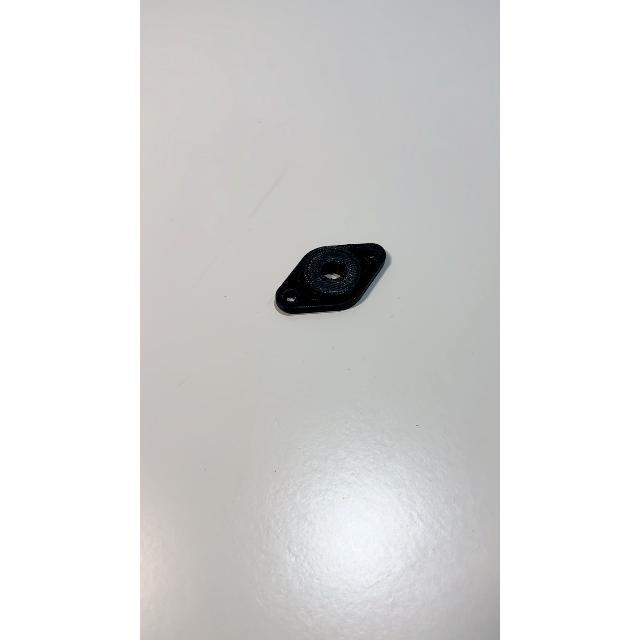Pieza2: (268, 234, 402, 334)
